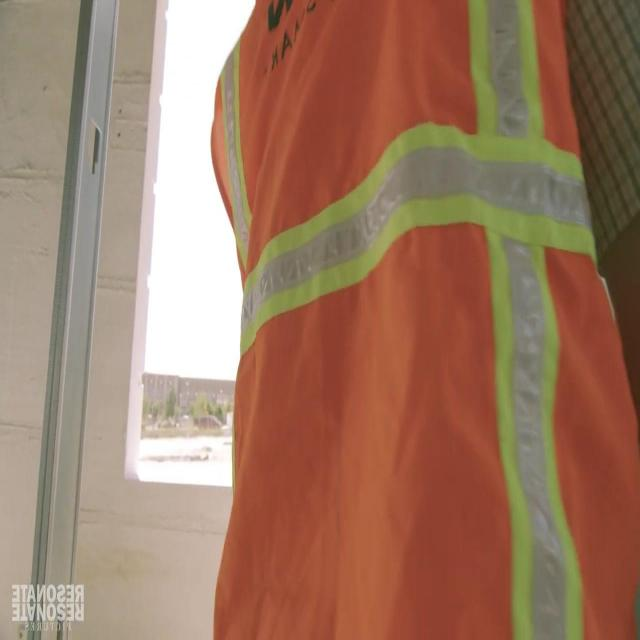Reflective-Jacket: (191, 0, 640, 639)
